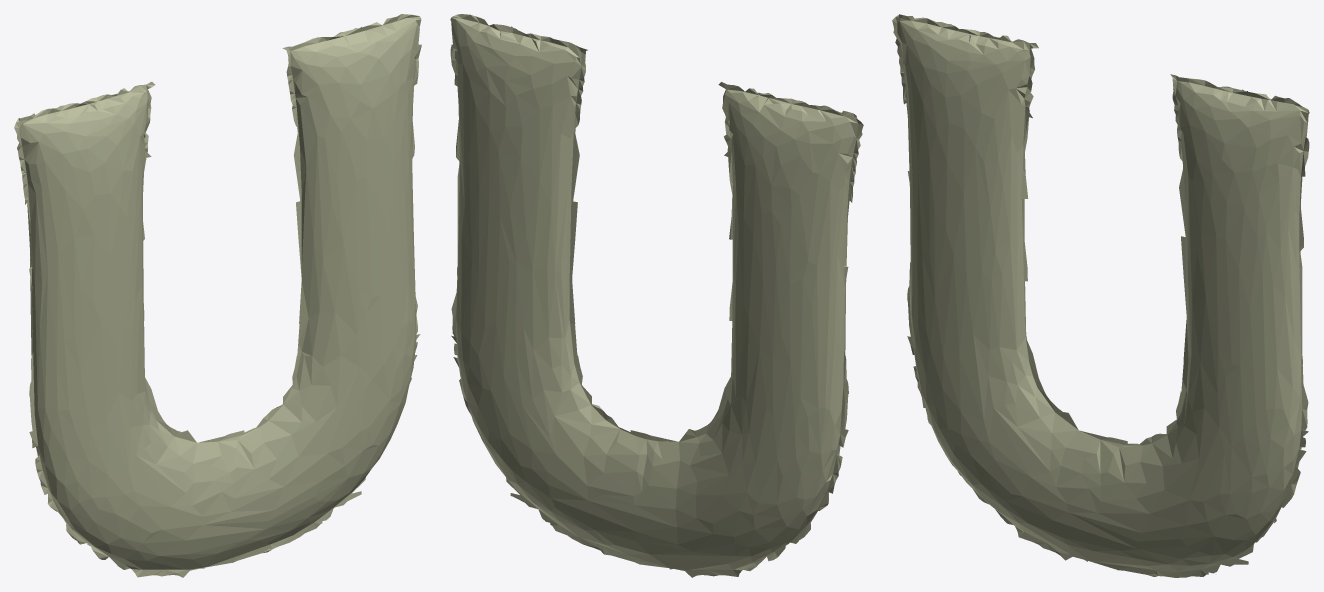
The model's file is tinker.obj.
3 views of the same model, side by side, from view 1: azimuth 30°, elevation 25°; view 2: azimuth 150°, elevation 25°; view 3: azimuth 330°, elevation 25° (orthographic).
Parts seen in each view (by area): view 1: obj_0; view 2: obj_0; view 3: obj_0.
Boxes of the visible parts, x1,y1,x2,y2 form: obj_0: [14, 14, 421, 577]; obj_0: [450, 14, 863, 577]; obj_0: [892, 14, 1309, 577].
Bounding box in the file's own units: 13.09 × 15.53 × 1.63.
